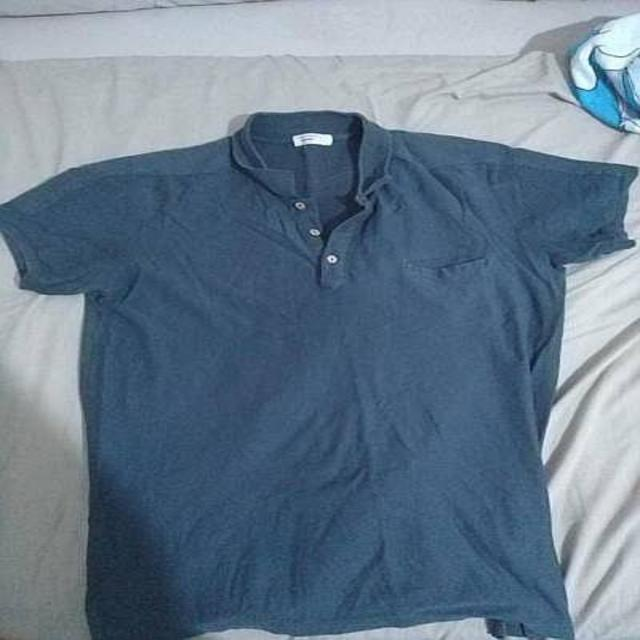T_SHIRT: (0, 103, 640, 638)
